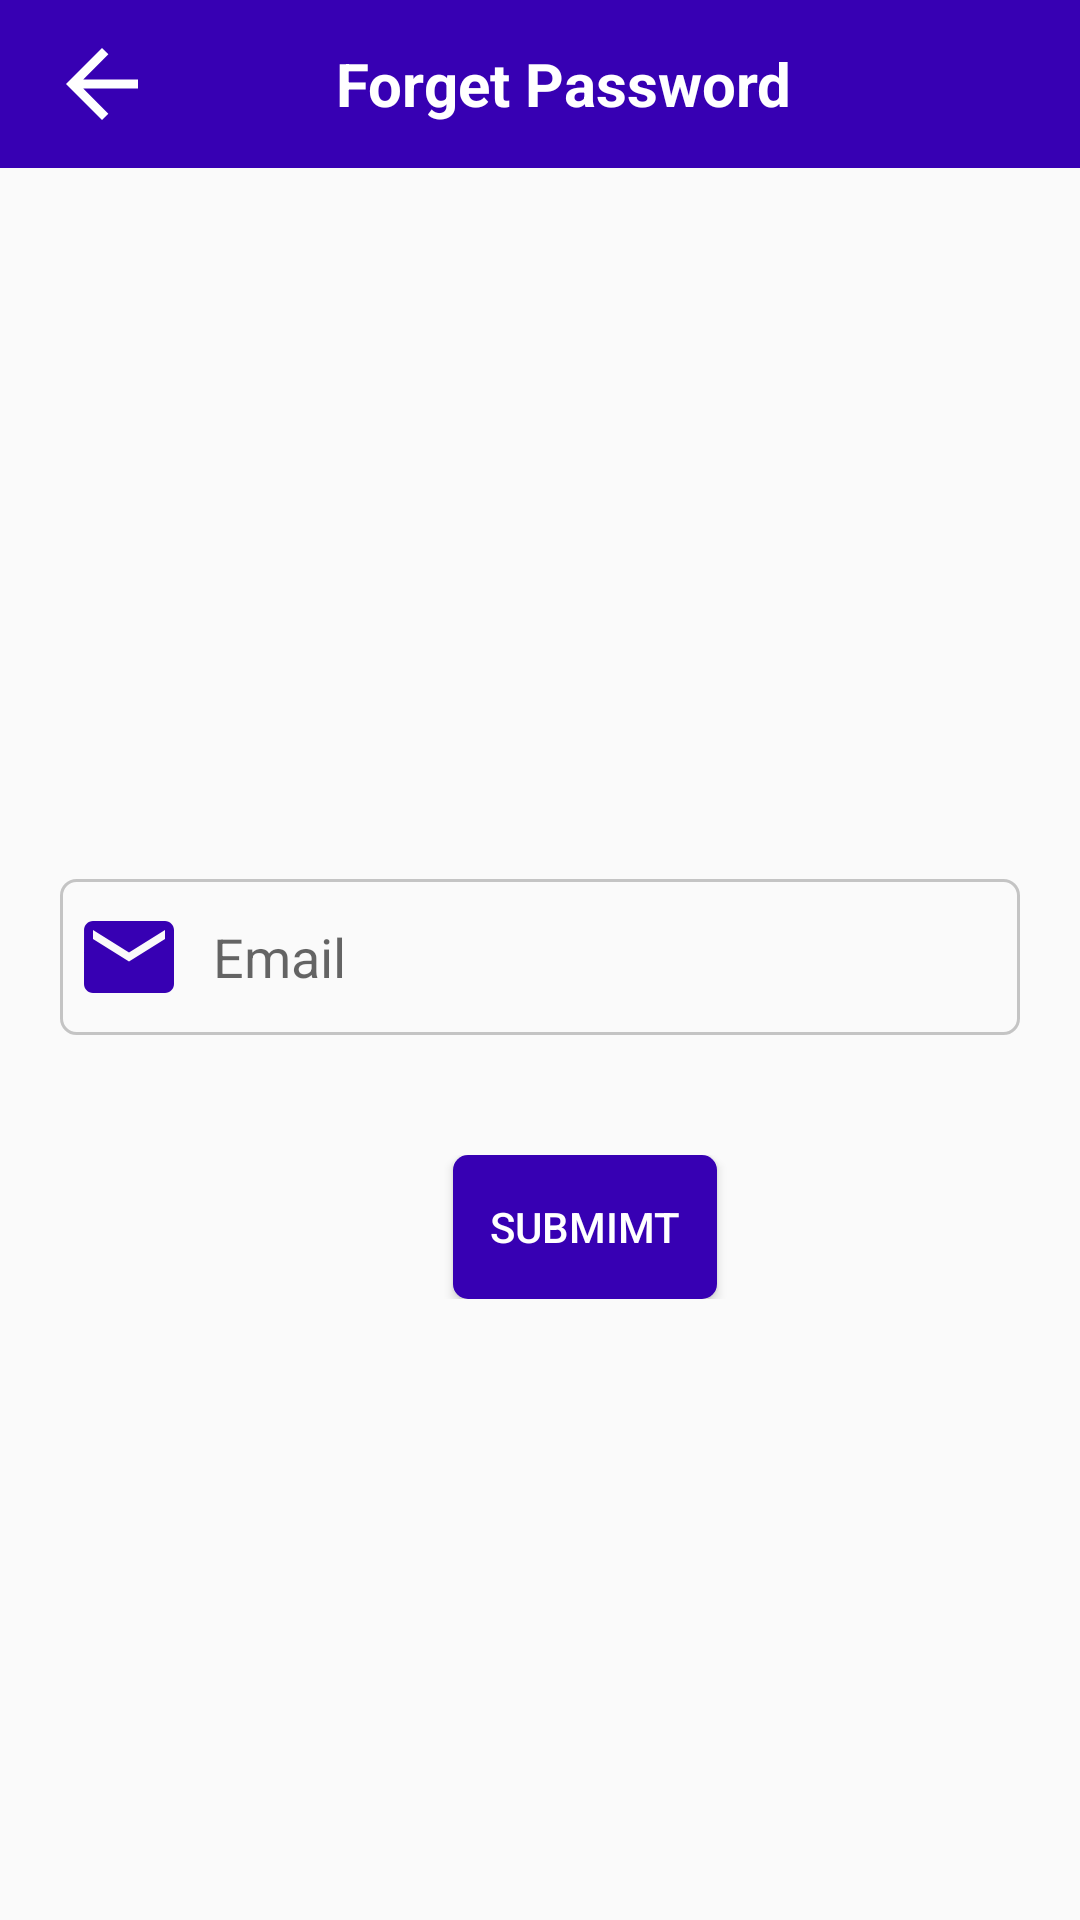

Named icons in this screenshot (1080px x 1920px) and their centers, point (x, y):
back: point (102, 84)
